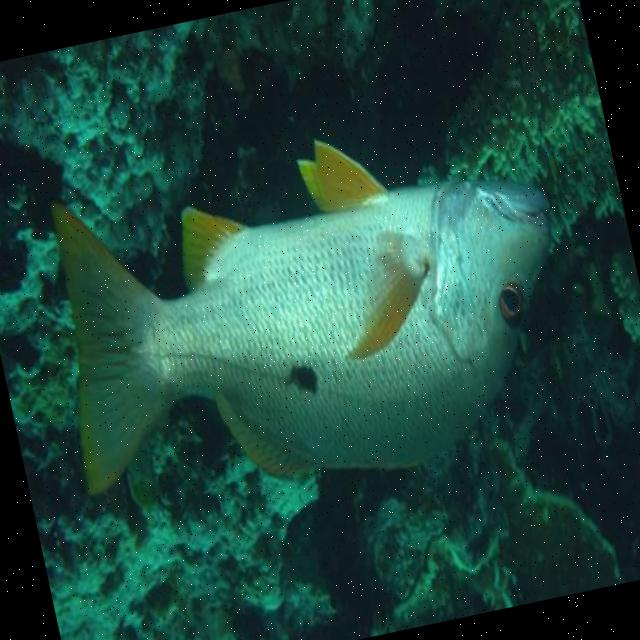ikan: (24, 90, 601, 542)
